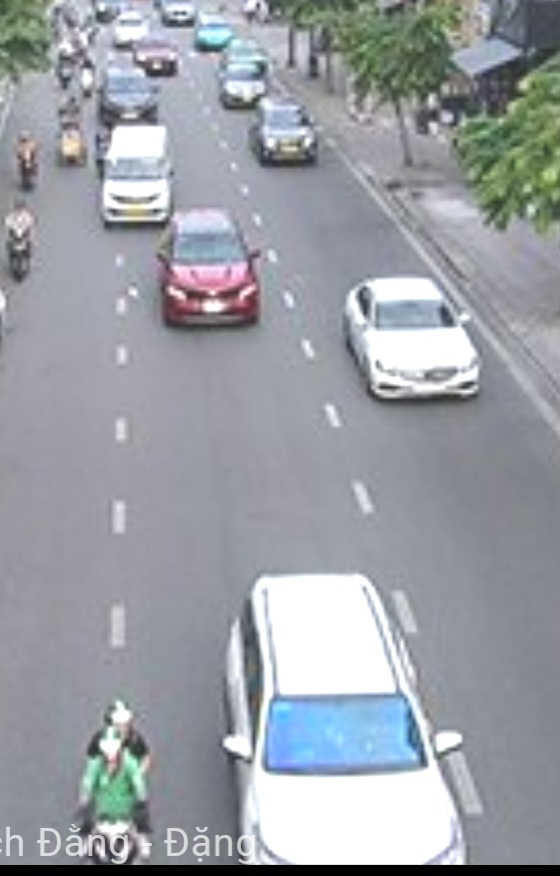car: (225, 574, 462, 866), (345, 275, 485, 402), (160, 208, 260, 330), (104, 124, 173, 225), (252, 97, 320, 166), (101, 68, 160, 127), (220, 58, 271, 112)
